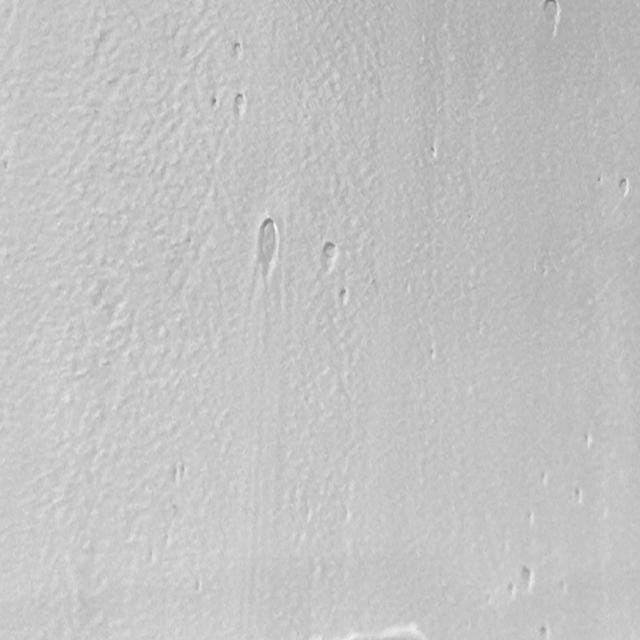pin holes: (253, 214, 285, 278), (538, 0, 564, 36), (376, 621, 421, 640), (169, 457, 188, 493), (317, 242, 339, 272), (519, 565, 539, 593), (231, 91, 249, 119), (579, 429, 598, 453), (616, 174, 632, 202), (570, 483, 586, 508), (230, 40, 246, 64), (428, 142, 444, 162), (336, 287, 351, 307), (426, 342, 438, 363), (538, 470, 552, 487), (538, 623, 553, 638), (208, 95, 221, 112), (524, 509, 536, 527), (506, 582, 518, 598)
